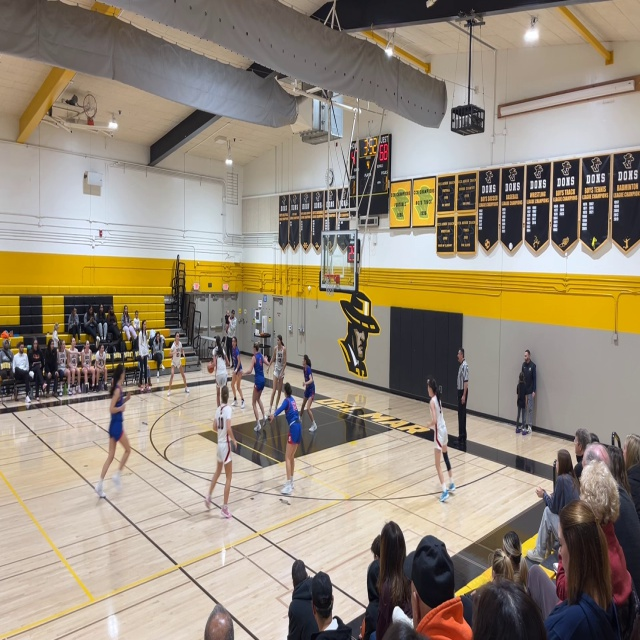Basketball: (207, 363, 215, 373)
